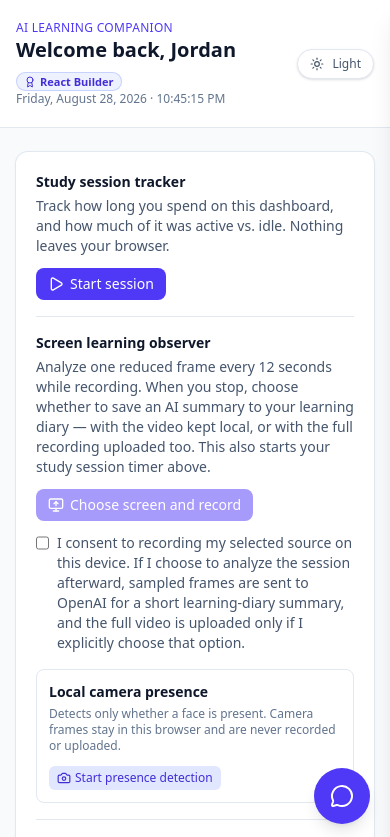
App › renders a mobile floating action button that opens the AI tutor chat in a drawer
The image size is (390, 837).
Expected: the heading "Welcome back, Jordan React Builder" is shown, [16, 36, 236, 91]
Click the button named "Open AI tutor chat" at (342, 796), box [314, 768, 370, 824]
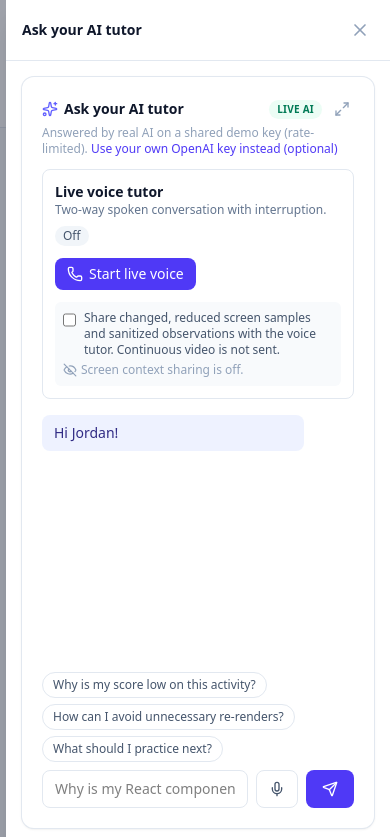
Now the field named "Ask a question" is shown, box [42, 770, 248, 808]
